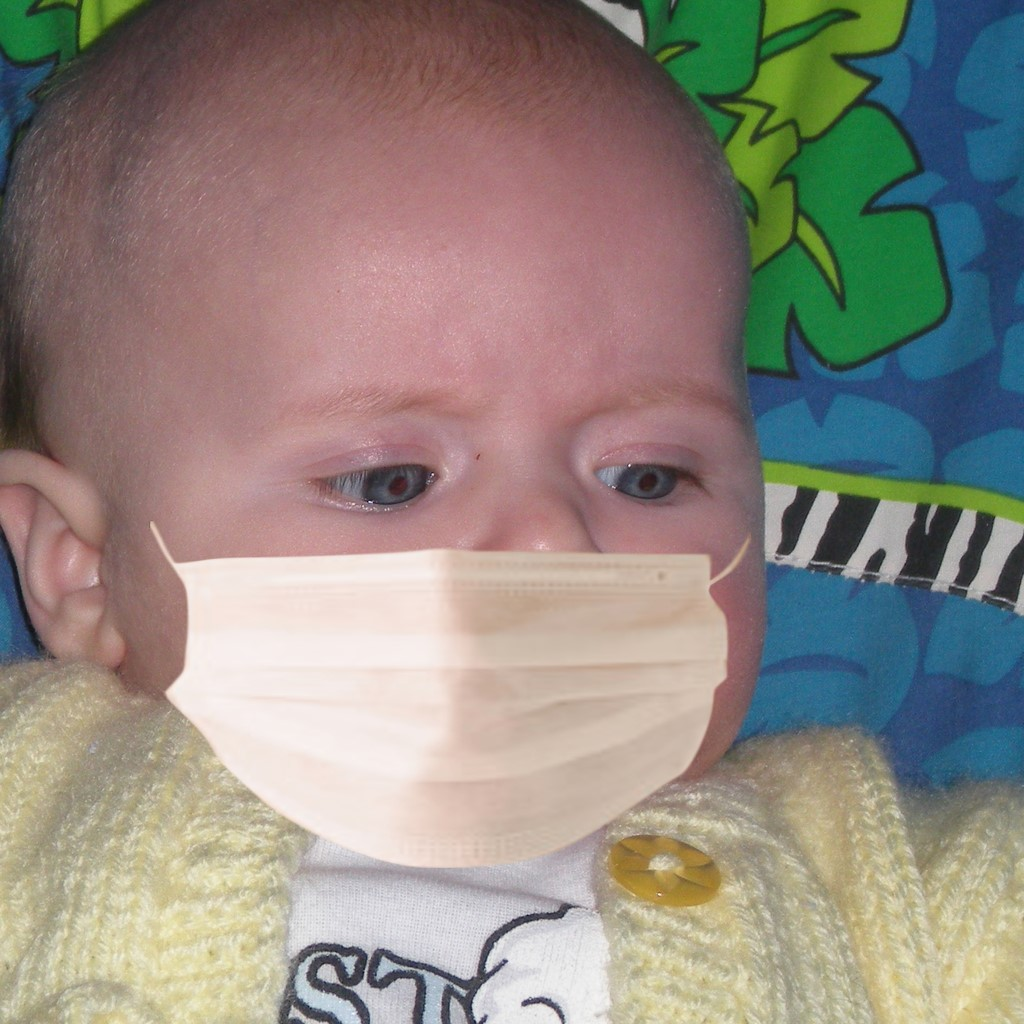con_mascara: (70, 31, 773, 849)
